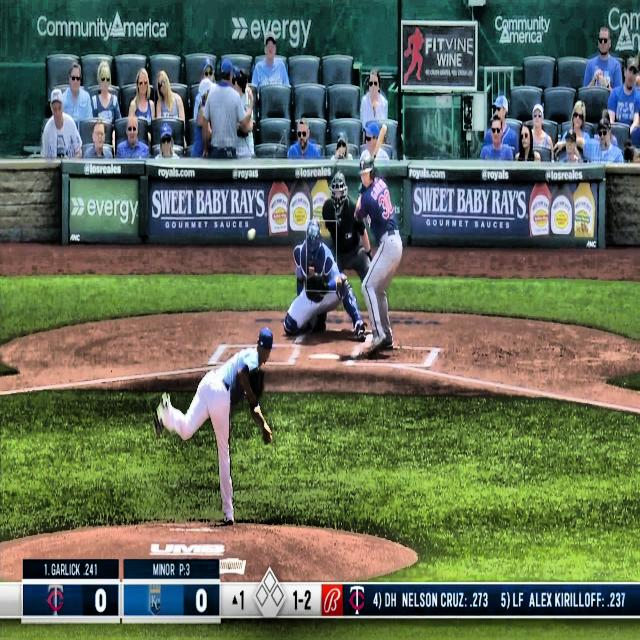baseball: (247, 228, 257, 241)
